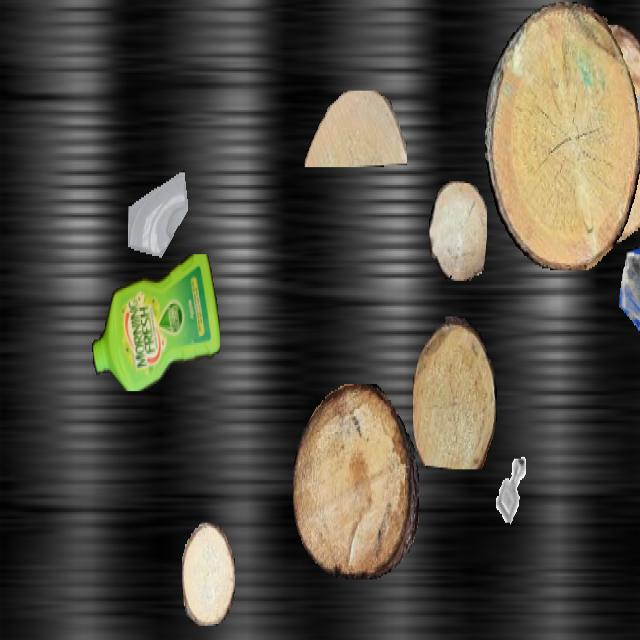glass: (128, 171, 190, 281), (619, 242, 640, 391), (619, 58, 640, 194)
metal: (486, 444, 538, 537), (634, 2, 640, 98)
plastic: (92, 255, 220, 390)
wood: (485, 2, 640, 268), (293, 384, 419, 580), (545, 25, 640, 245), (413, 316, 497, 469), (304, 91, 406, 165), (429, 181, 487, 281), (182, 522, 234, 626)
